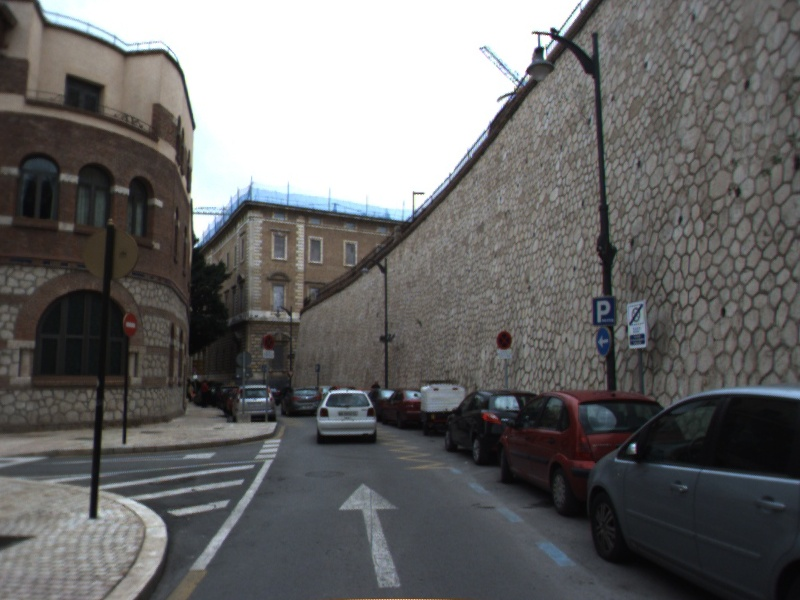STRAIGHT: (337, 481, 402, 589)
